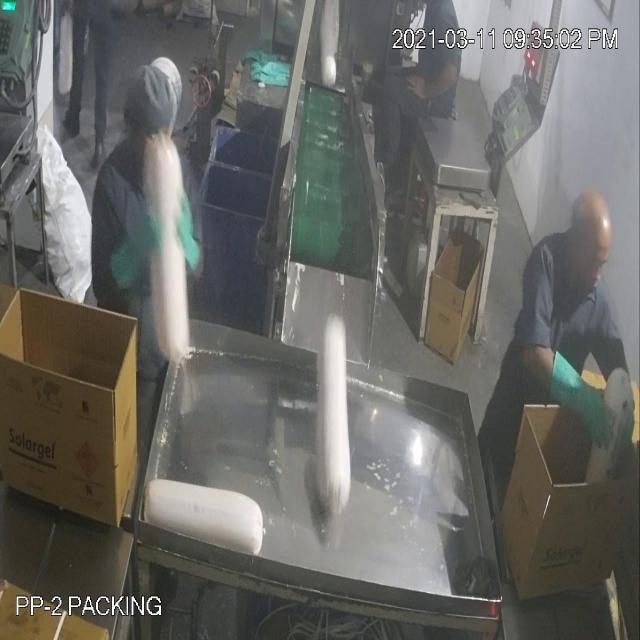Gloves: (64, 68, 572, 402)
